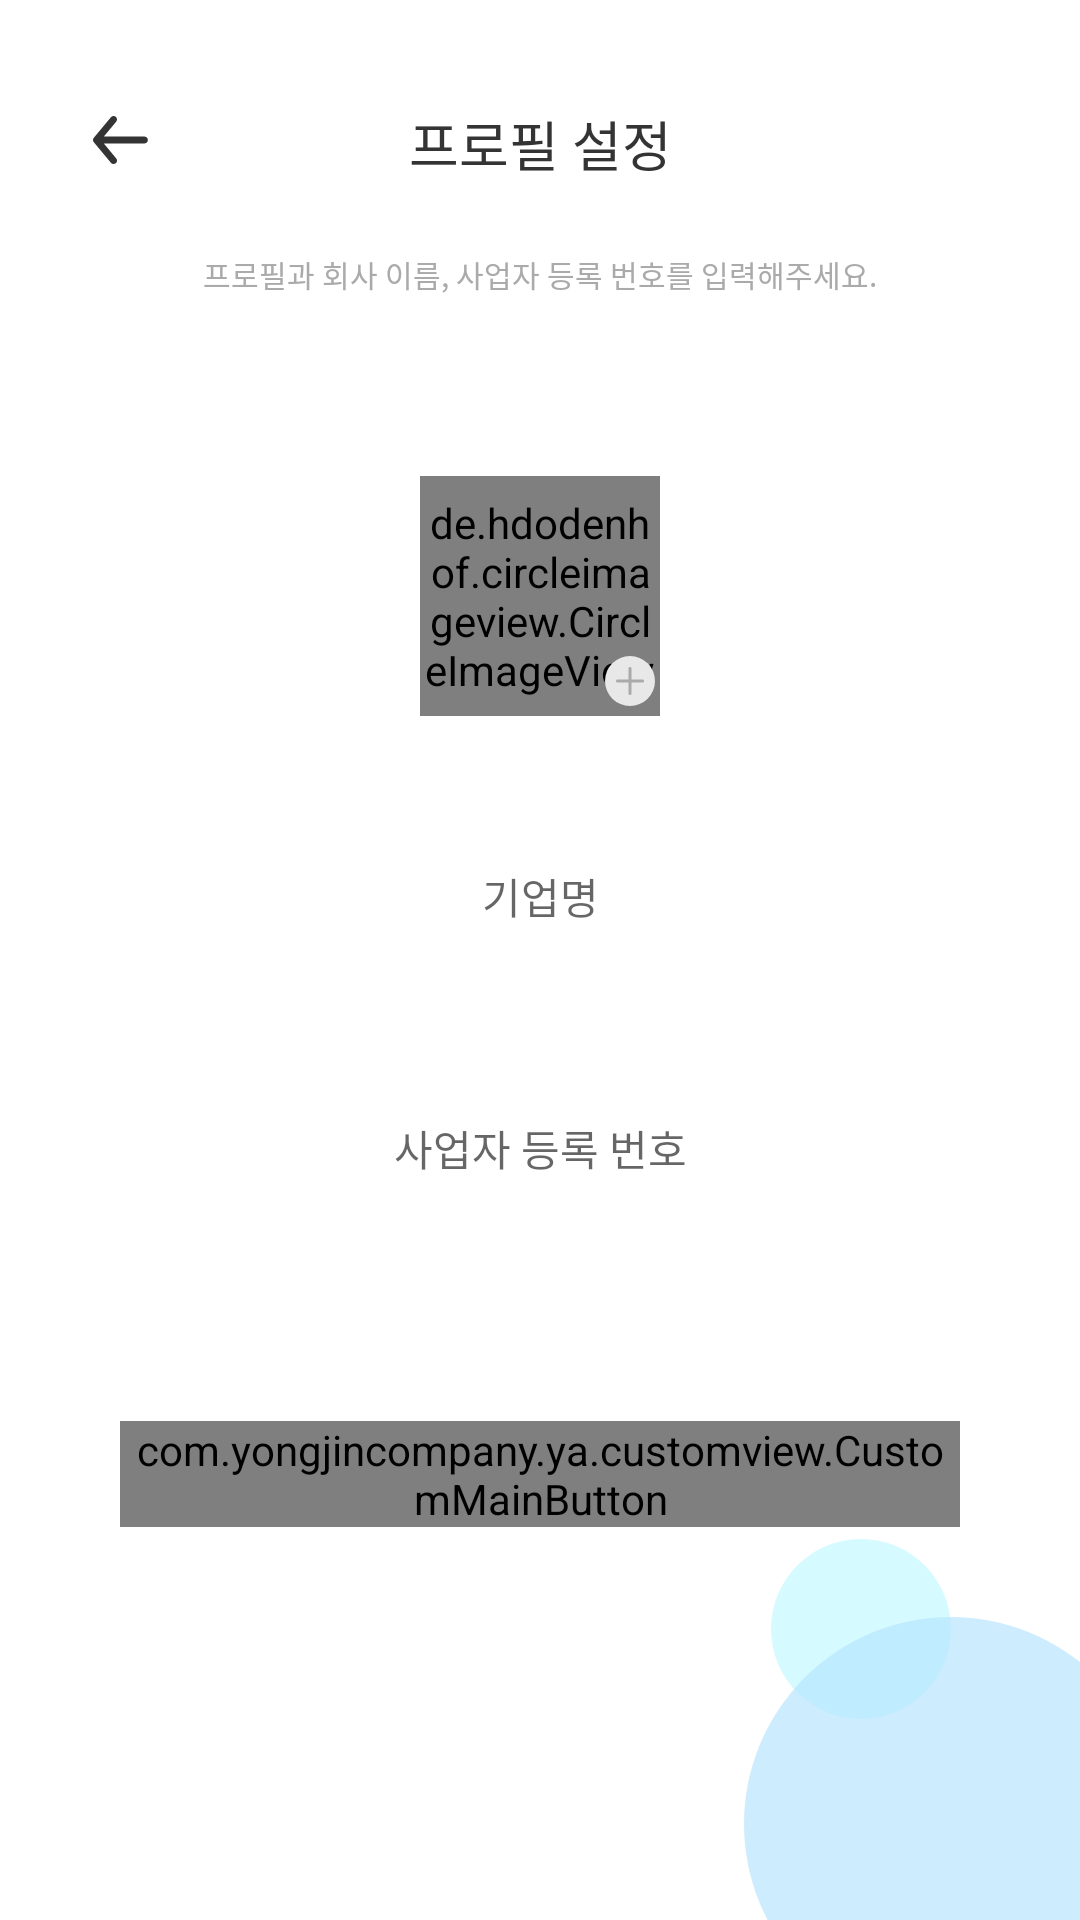

Icons on this 1080x1920 Android screen, each with the point to tap as [x,y]:
back: [120,140]
plus: [629,681]
